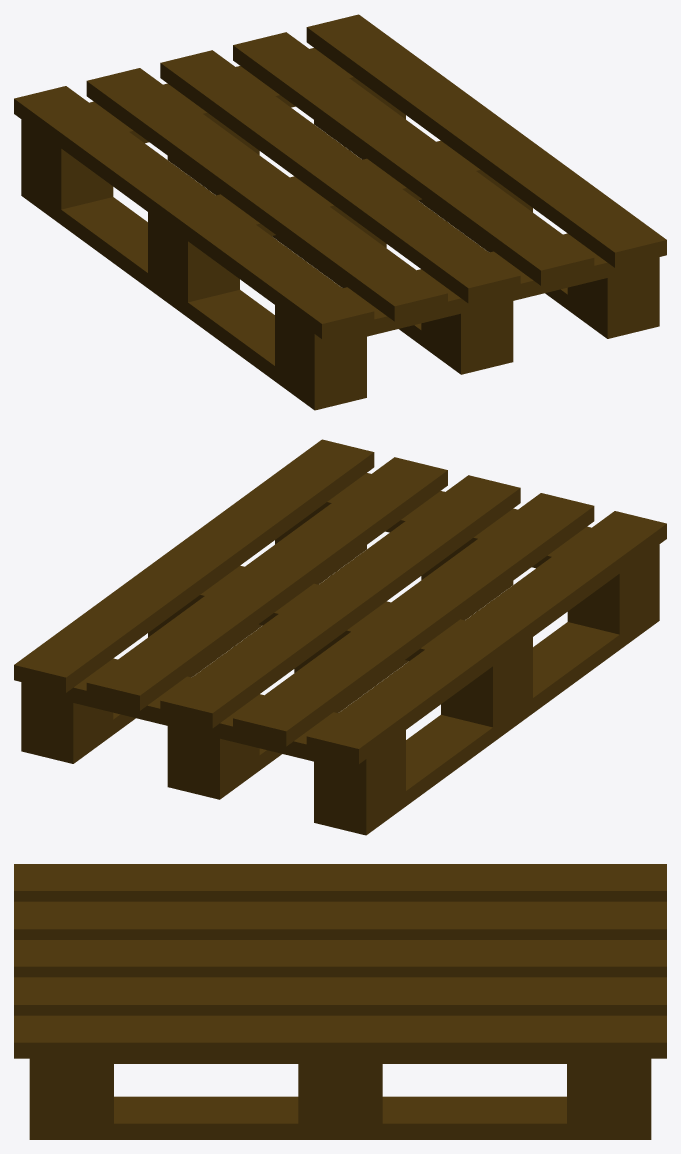
File: Pallet.fbx
The picture shows the model from 3 angles, top to bottom: view 1: azimuth 30°, elevation 25°; view 2: azimuth 150°, elevation 25°; view 3: azimuth 270°, elevation 25°; orthographic projection. The views are drawn at different scales.
Visible parts, largest first — view 1: Cube.018; view 2: Cube.018; view 3: Cube.018.
Boxes of the visible parts, x1,y1,x2,y2 form: Cube.018: (14,14,666,410); Cube.018: (14,439,666,835); Cube.018: (14,864,666,1139).
Size of the model in its own units: 120 by 30.52 by 186.
